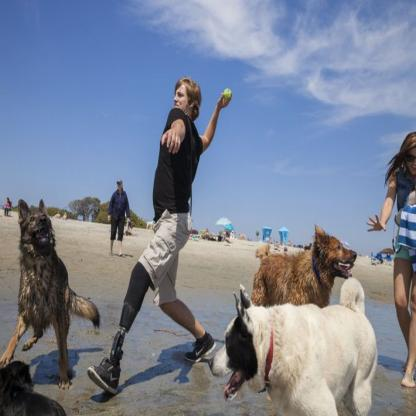dog: (210, 274, 378, 416), (4, 197, 100, 392), (250, 226, 358, 335)
